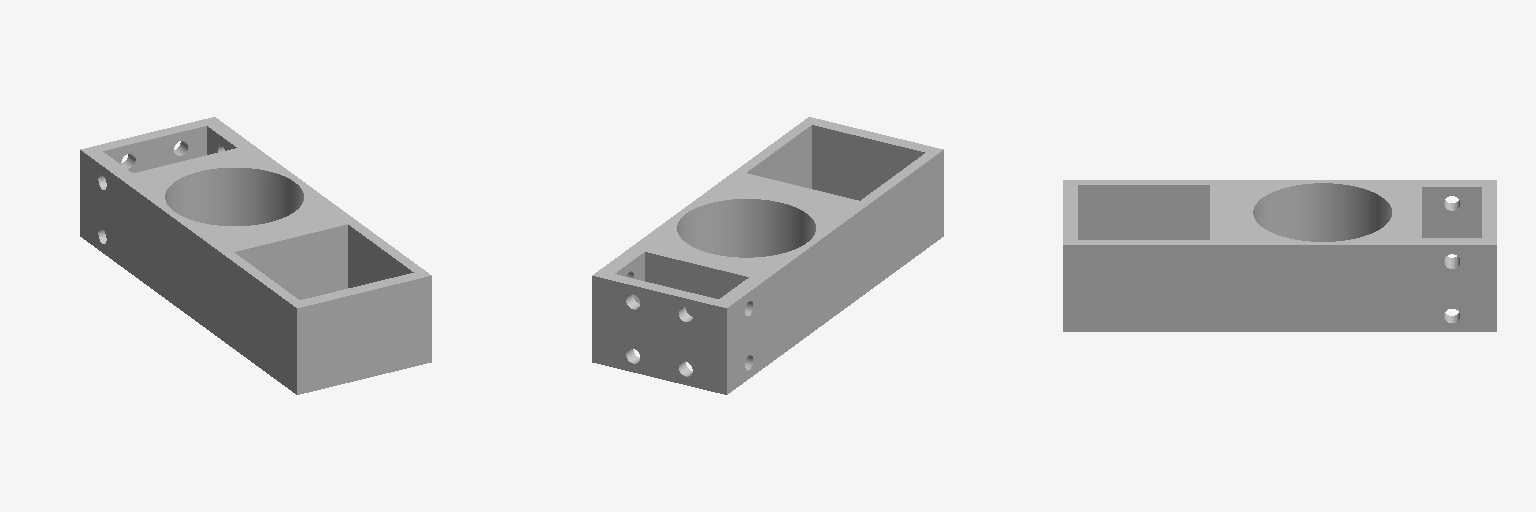
File: tow_guide_motor_mount_1x.obj
3 renders of one model, left to right at view 1: azimuth 30°, elevation 25°; view 2: azimuth 150°, elevation 25°; view 3: azimuth 270°, elevation 25°, orthographic.
Visible parts, largest first — view 1: tow_guide_motor_mount_1x; view 2: tow_guide_motor_mount_1x; view 3: tow_guide_motor_mount_1x.
Part boxes in pixels (bbox=[...]): tow_guide_motor_mount_1x: bbox=[80, 117, 431, 394]; tow_guide_motor_mount_1x: bbox=[592, 117, 943, 394]; tow_guide_motor_mount_1x: bbox=[1063, 180, 1496, 331].
Size of the model in its own units: 52 by 32 by 145.